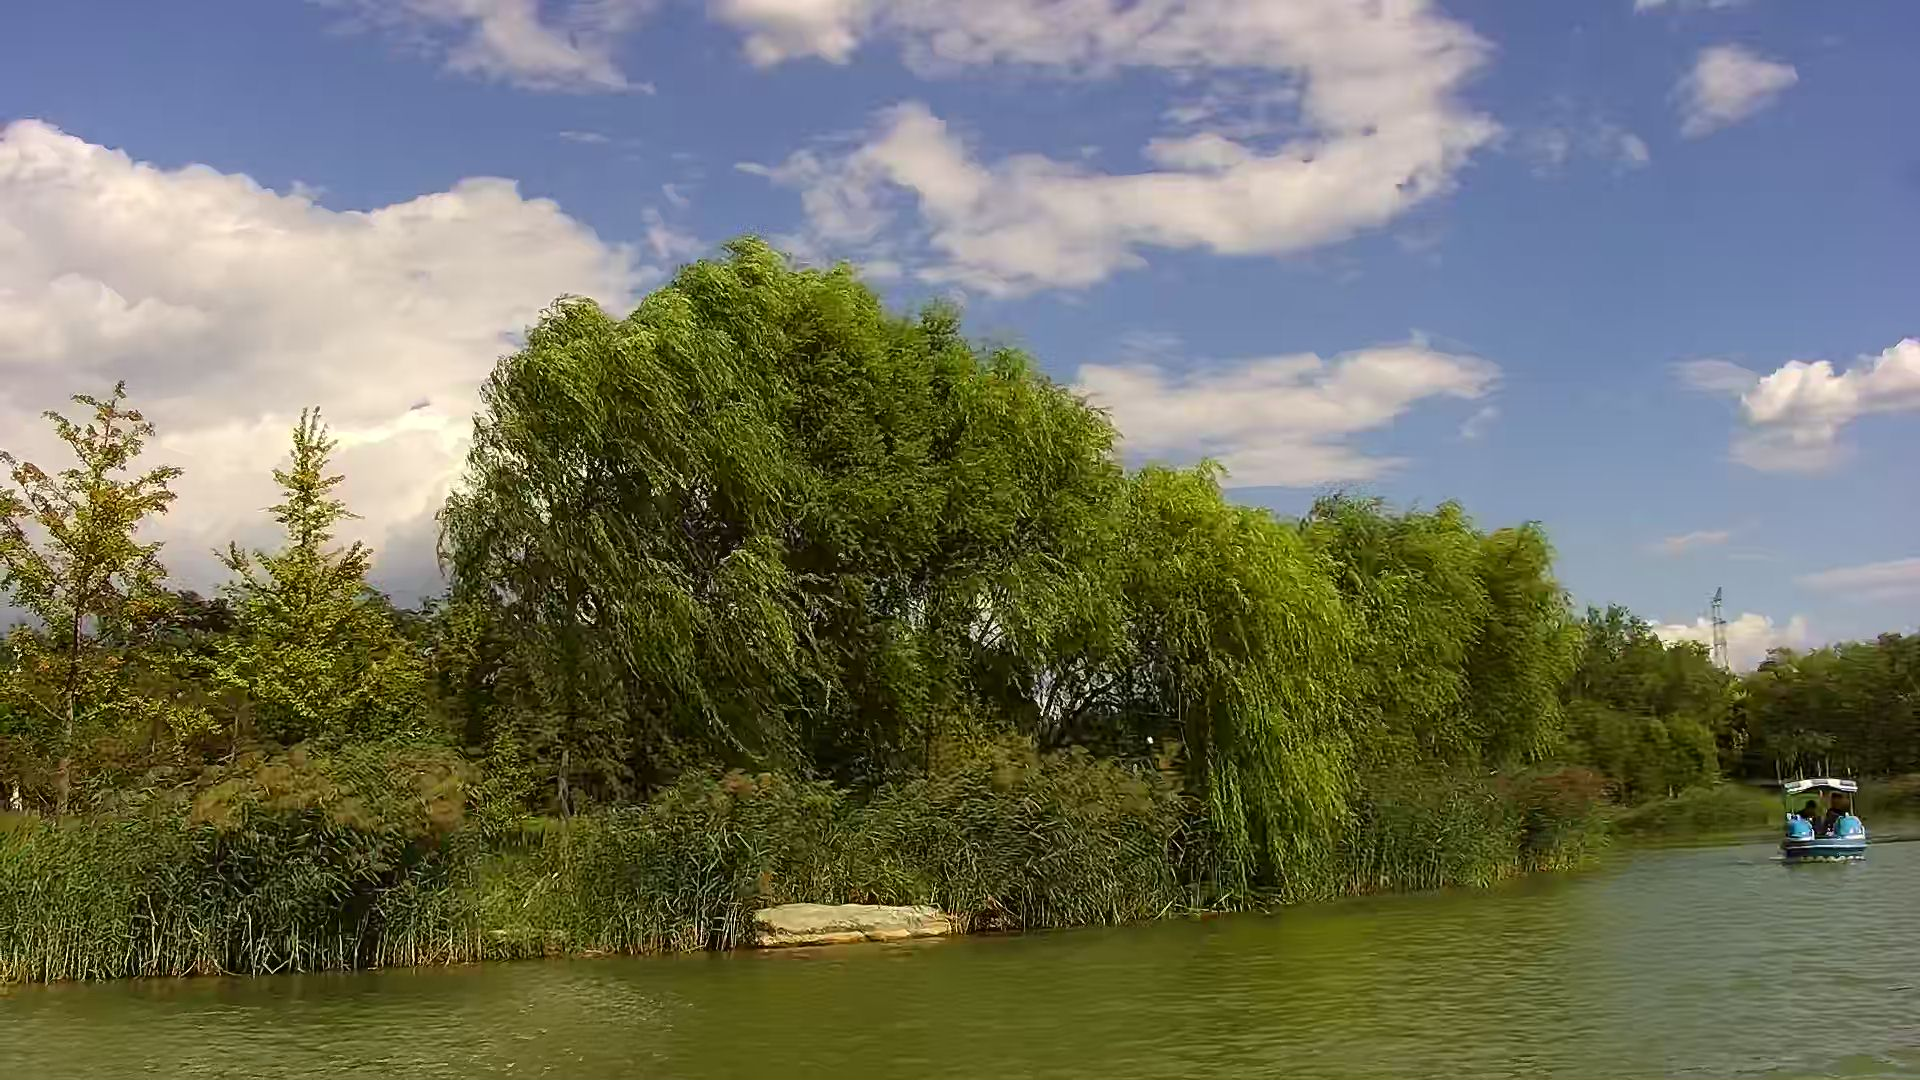boat: (1780, 775, 1873, 869)
rock: (746, 903, 957, 953)
